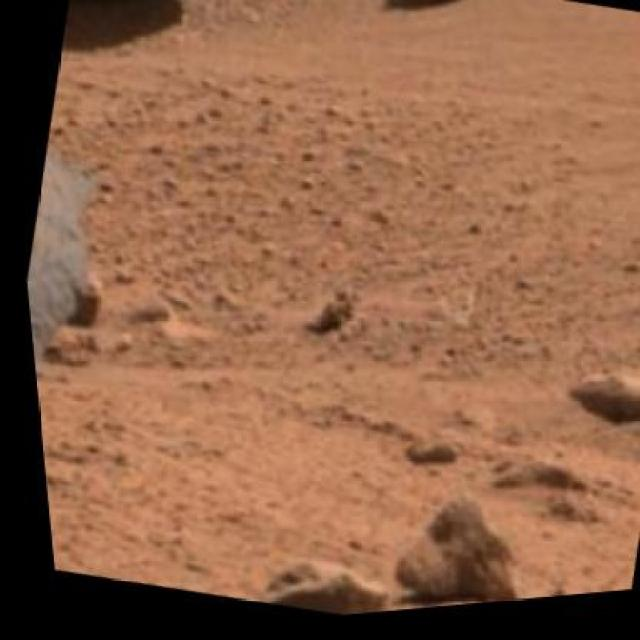rock: (371, 484, 547, 616), (64, 0, 320, 75), (403, 0, 639, 69), (236, 552, 398, 625), (594, 565, 626, 600)
